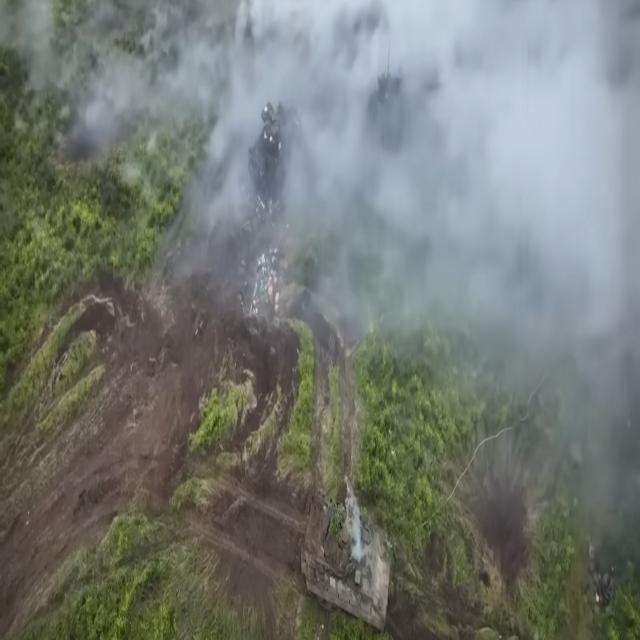AIFV: (299, 490, 393, 633), (247, 99, 303, 206), (369, 46, 413, 131)
